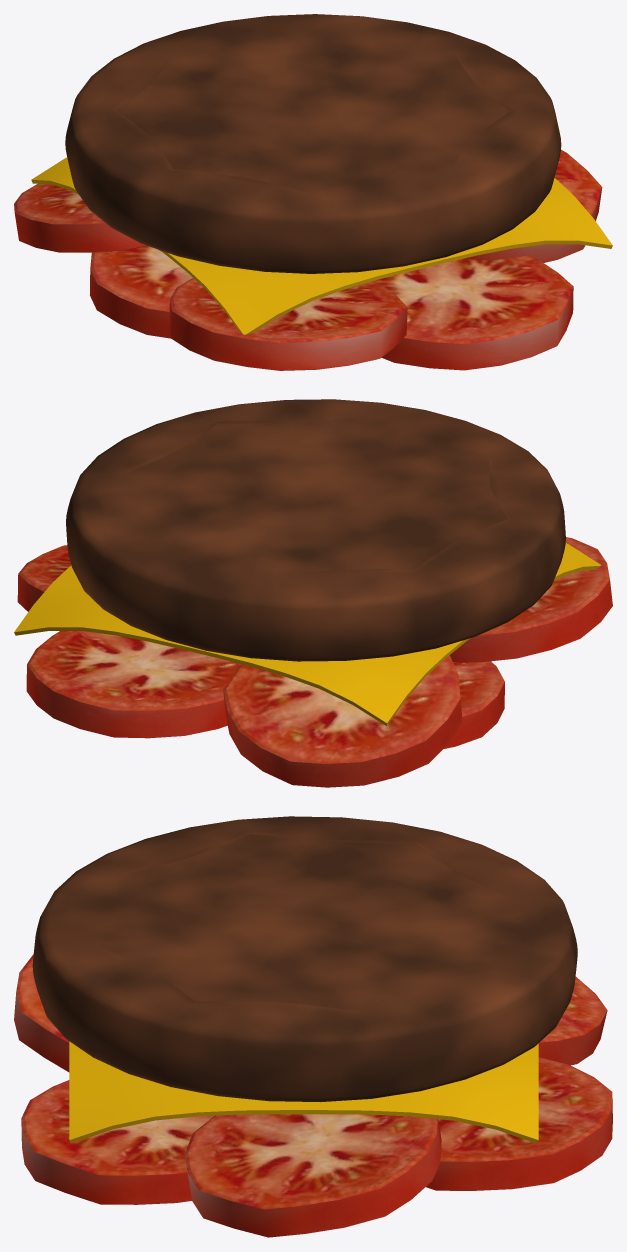
File: cheese-tomato-meat.glb
3 renders of one model, top to bottom at view 1: azimuth 30°, elevation 25°; view 2: azimuth 150°, elevation 25°; view 3: azimuth 270°, elevation 25°, orthographic. The views are drawn at different scales.
Visible parts, largest first — view 1: meat, pCylinder19_9, cheese; view 2: meat, pCylinder19_9, cheese; view 3: meat, pCylinder19_9, cheese.
Part boxes in pixels (x1,y1,x2,y2): meat: (65, 14, 561, 273); pCylinder19_9: (14, 149, 602, 370); cheese: (31, 157, 612, 334); meat: (66, 399, 565, 661); pCylinder19_9: (17, 537, 612, 787); cheese: (14, 543, 601, 725); meat: (32, 816, 577, 1102); pCylinder19_9: (14, 954, 612, 1237); cheese: (69, 1041, 538, 1143).
Bounding box in the file's own units: 1.01 × 0.3541 × 0.9781.
Materials: 4 (3 with a texture image).
